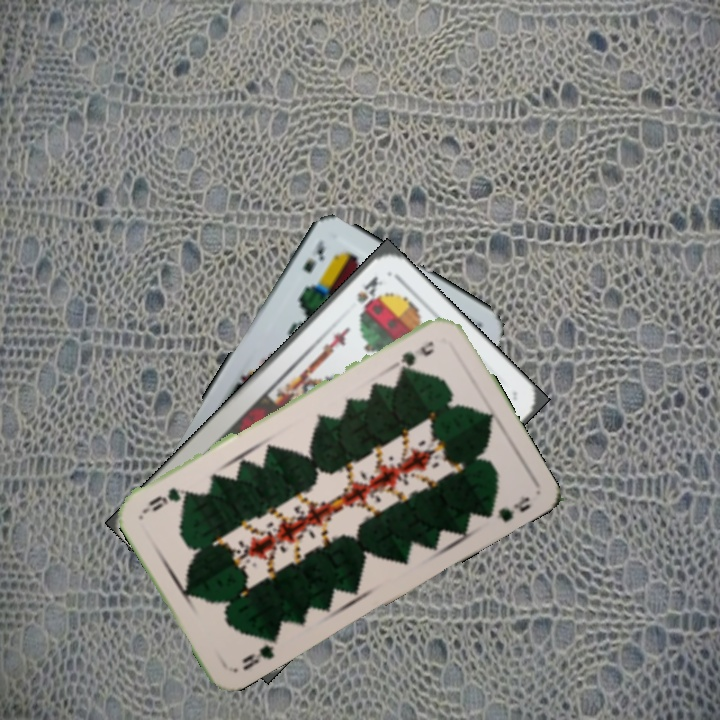EK: (299, 236, 328, 276)
G9: (237, 631, 281, 673), (390, 337, 437, 373)
SK: (353, 272, 386, 312)
